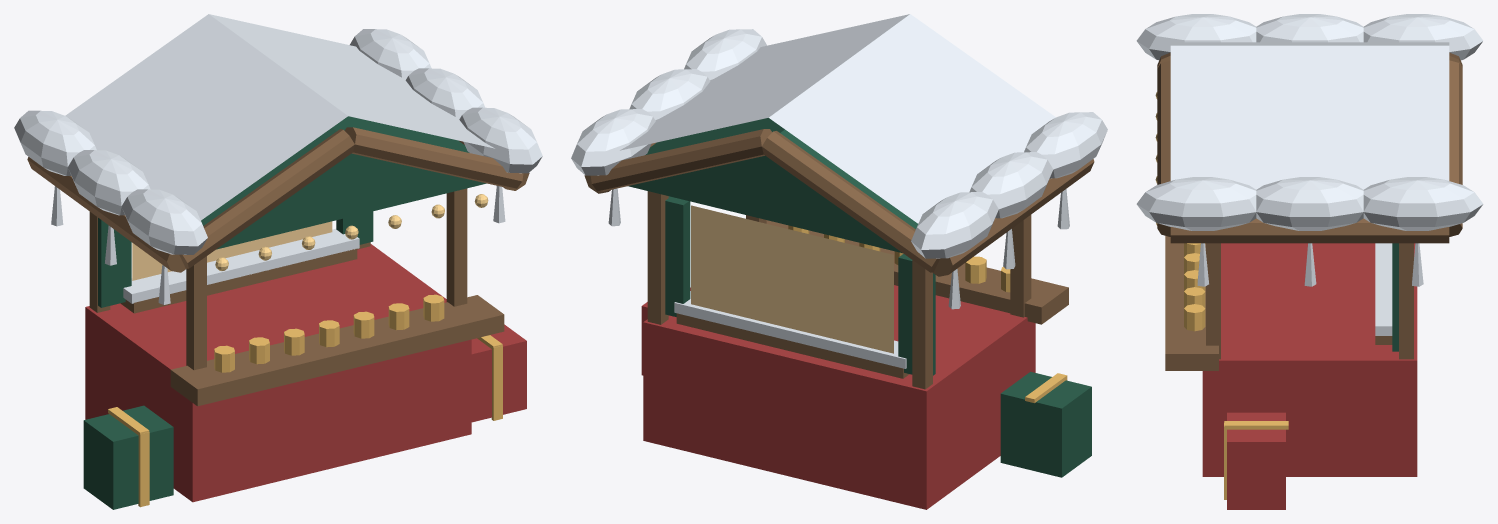
File: market_stall.glb
3 renders of one model, left to right at view 1: azimuth 30°, elevation 25°; view 2: azimuth 150°, elevation 25°; view 3: azimuth 270°, elevation 25°, orthographic.
Visible parts, largest first — view 1: market_stall_snow, market_stall_red, market_stall_wood, market_stall_green, market_stall_gold, market_stall_window, market_stall_bulb; view 2: market_stall_snow, market_stall_red, market_stall_wood, market_stall_green, market_stall_window, market_stall_gold; view 3: market_stall_snow, market_stall_red, market_stall_wood, market_stall_gold, market_stall_green.
Part boxes in pixels (<box>): market_stall_snow: <box>14,14,542,304</box>; market_stall_red: <box>85,244,526,502</box>; market_stall_wood: <box>27,127,529,406</box>; market_stall_green: <box>83,116,486,509</box>; market_stall_gold: <box>108,294,502,507</box>; market_stall_window: <box>132,221,332,280</box>; market_stall_bulb: <box>215,194,488,270</box>; market_stall_snow: <box>571,14,1107,368</box>; market_stall_red: <box>641,285,1035,509</box>; market_stall_wood: <box>584,129,1094,389</box>; market_stall_green: <box>628,118,1091,477</box>; market_stall_window: <box>691,205,893,353</box>; market_stall_gold: <box>788,225,1067,403</box>; market_stall_snow: <box>1136,14,1483,335</box>; market_stall_red: <box>1202,243,1417,509</box>; market_stall_wood: <box>1157,52,1462,370</box>; market_stall_gold: <box>1184,243,1288,499</box>; market_stall_green: <box>1392,243,1398,351</box>.
Size of the model in its own units: 8.9 by 7.53 by 6.48.
